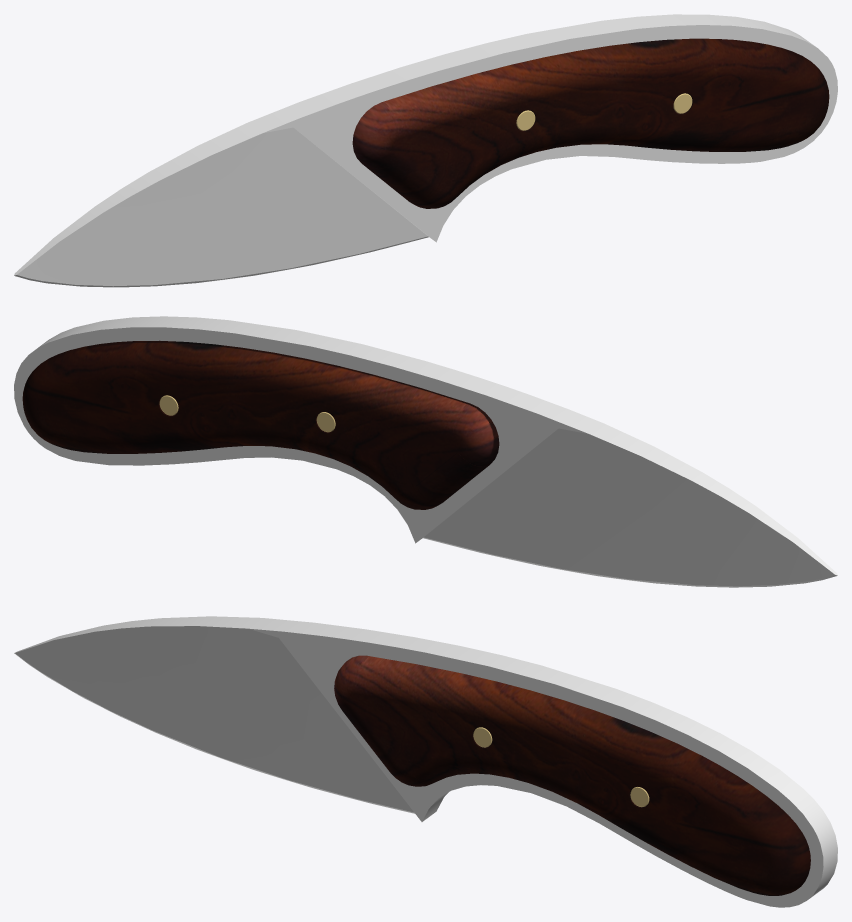
Rendered from miniedc__cocobolo__none__high_polish.glb.
3 views of the same model, one above another, from view 1: azimuth 30°, elevation 25°; view 2: azimuth 150°, elevation 25°; view 3: azimuth 330°, elevation 25° (orthographic).
Visible parts, largest first — view 1: blade, scales, pins; view 2: blade, scales, pins; view 3: blade, scales, pins.
Boxes of the visible parts, x1=… form: blade: x1=14, y1=14, x2=837, y2=287; scales: x1=352, y1=38, x2=829, y2=208; pins: x1=516, y1=93, x2=692, y2=130; blade: x1=14, y1=316, x2=837, y2=587; scales: x1=22, y1=340, x2=499, y2=509; pins: x1=159, y1=395, x2=335, y2=432; blade: x1=14, y1=616, x2=837, y2=907; scales: x1=334, y1=655, x2=810, y2=895; pins: x1=473, y1=727, x2=649, y2=807.
Bounding box in the file's own units: 12.87 × 2.61 × 1.22.
Materials: 3 (1 with a texture image).
